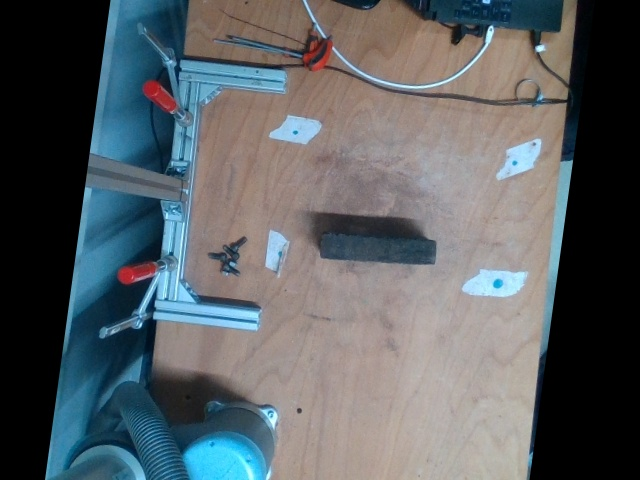brick-side: (322, 232, 434, 265)
